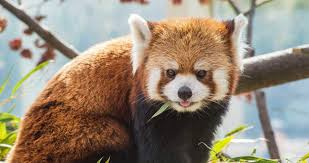redPanda: (12, 8, 255, 163)
